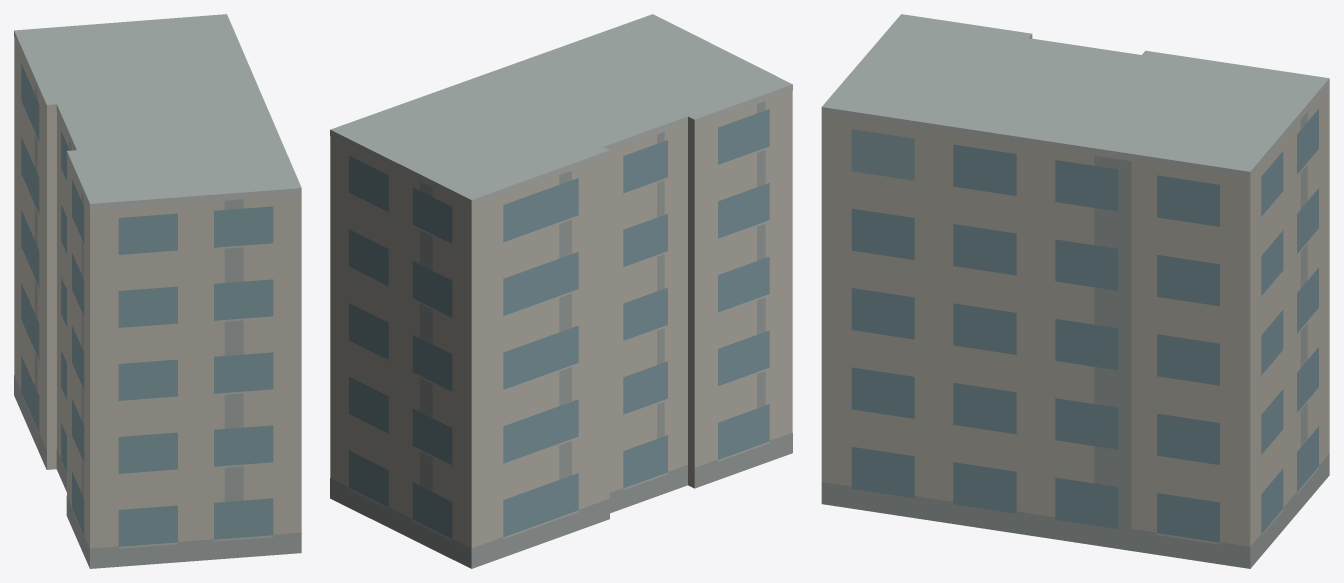
File: survey-upis-33046176.glb
3 renders of one model, left to right at view 1: azimuth 30°, elevation 25°; view 2: azimuth 150°, elevation 25°; view 3: azimuth 270°, elevation 25°, orthographic. The views are drawn at different scales.
Visible parts, largest first — view 1: survey-upis-33046176.tmp; view 2: survey-upis-33046176.tmp; view 3: survey-upis-33046176.tmp.
Boxes of the visible parts, x1,y1,x2,y2 form: survey-upis-33046176.tmp: (14,14,301,568); survey-upis-33046176.tmp: (330,14,792,568); survey-upis-33046176.tmp: (821,14,1329,568).
Bounding box in the file's own units: 11.26 × 13.2 × 15.31.
